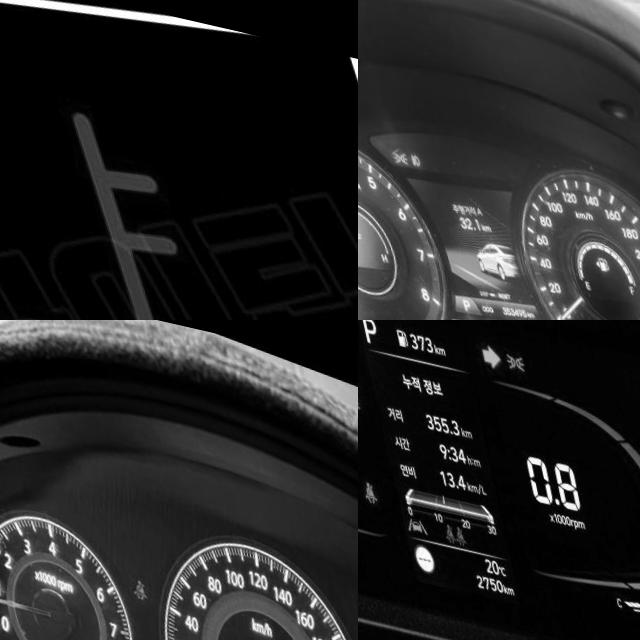Engine cooling system: (0, 44, 351, 320)
FrontFogLight: (396, 139, 408, 154)
SideLamp: (493, 332, 514, 353), (377, 136, 398, 156)
